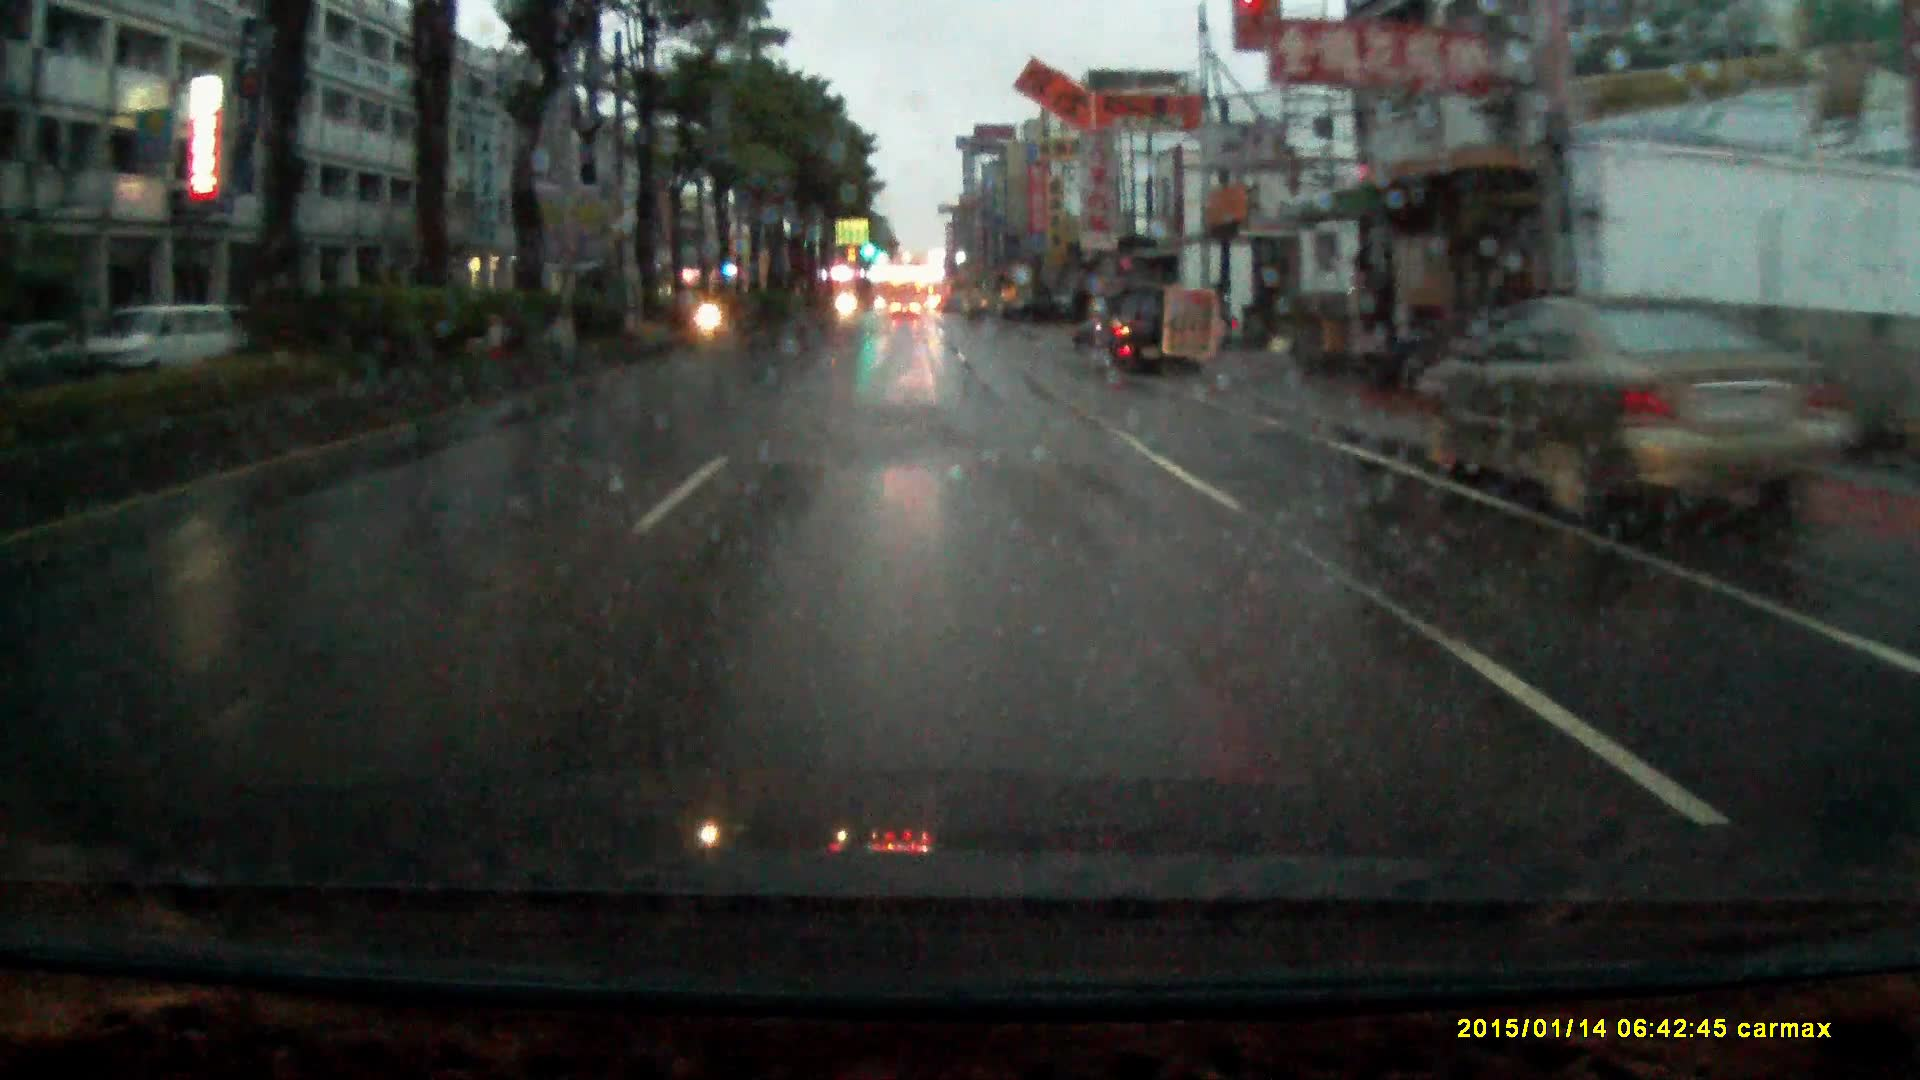vehicle: (1415, 287, 1865, 531), (1076, 282, 1196, 378), (91, 301, 249, 373), (7, 316, 87, 380), (893, 295, 920, 318)
